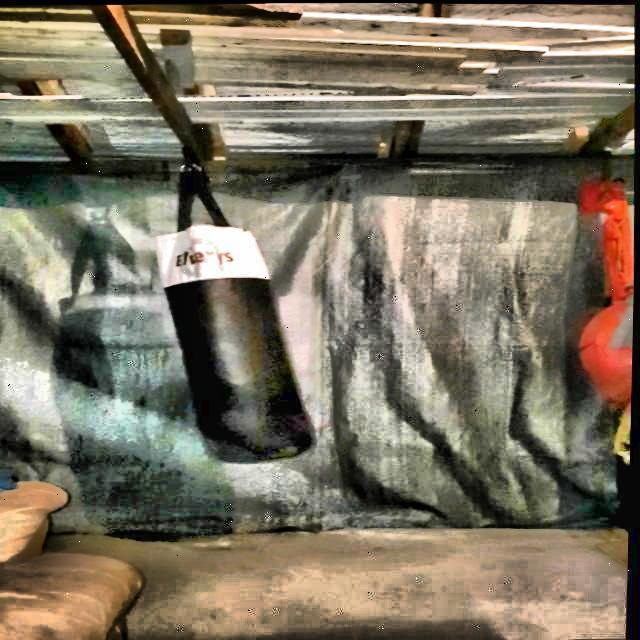boxing-bag: (147, 140, 323, 466)
